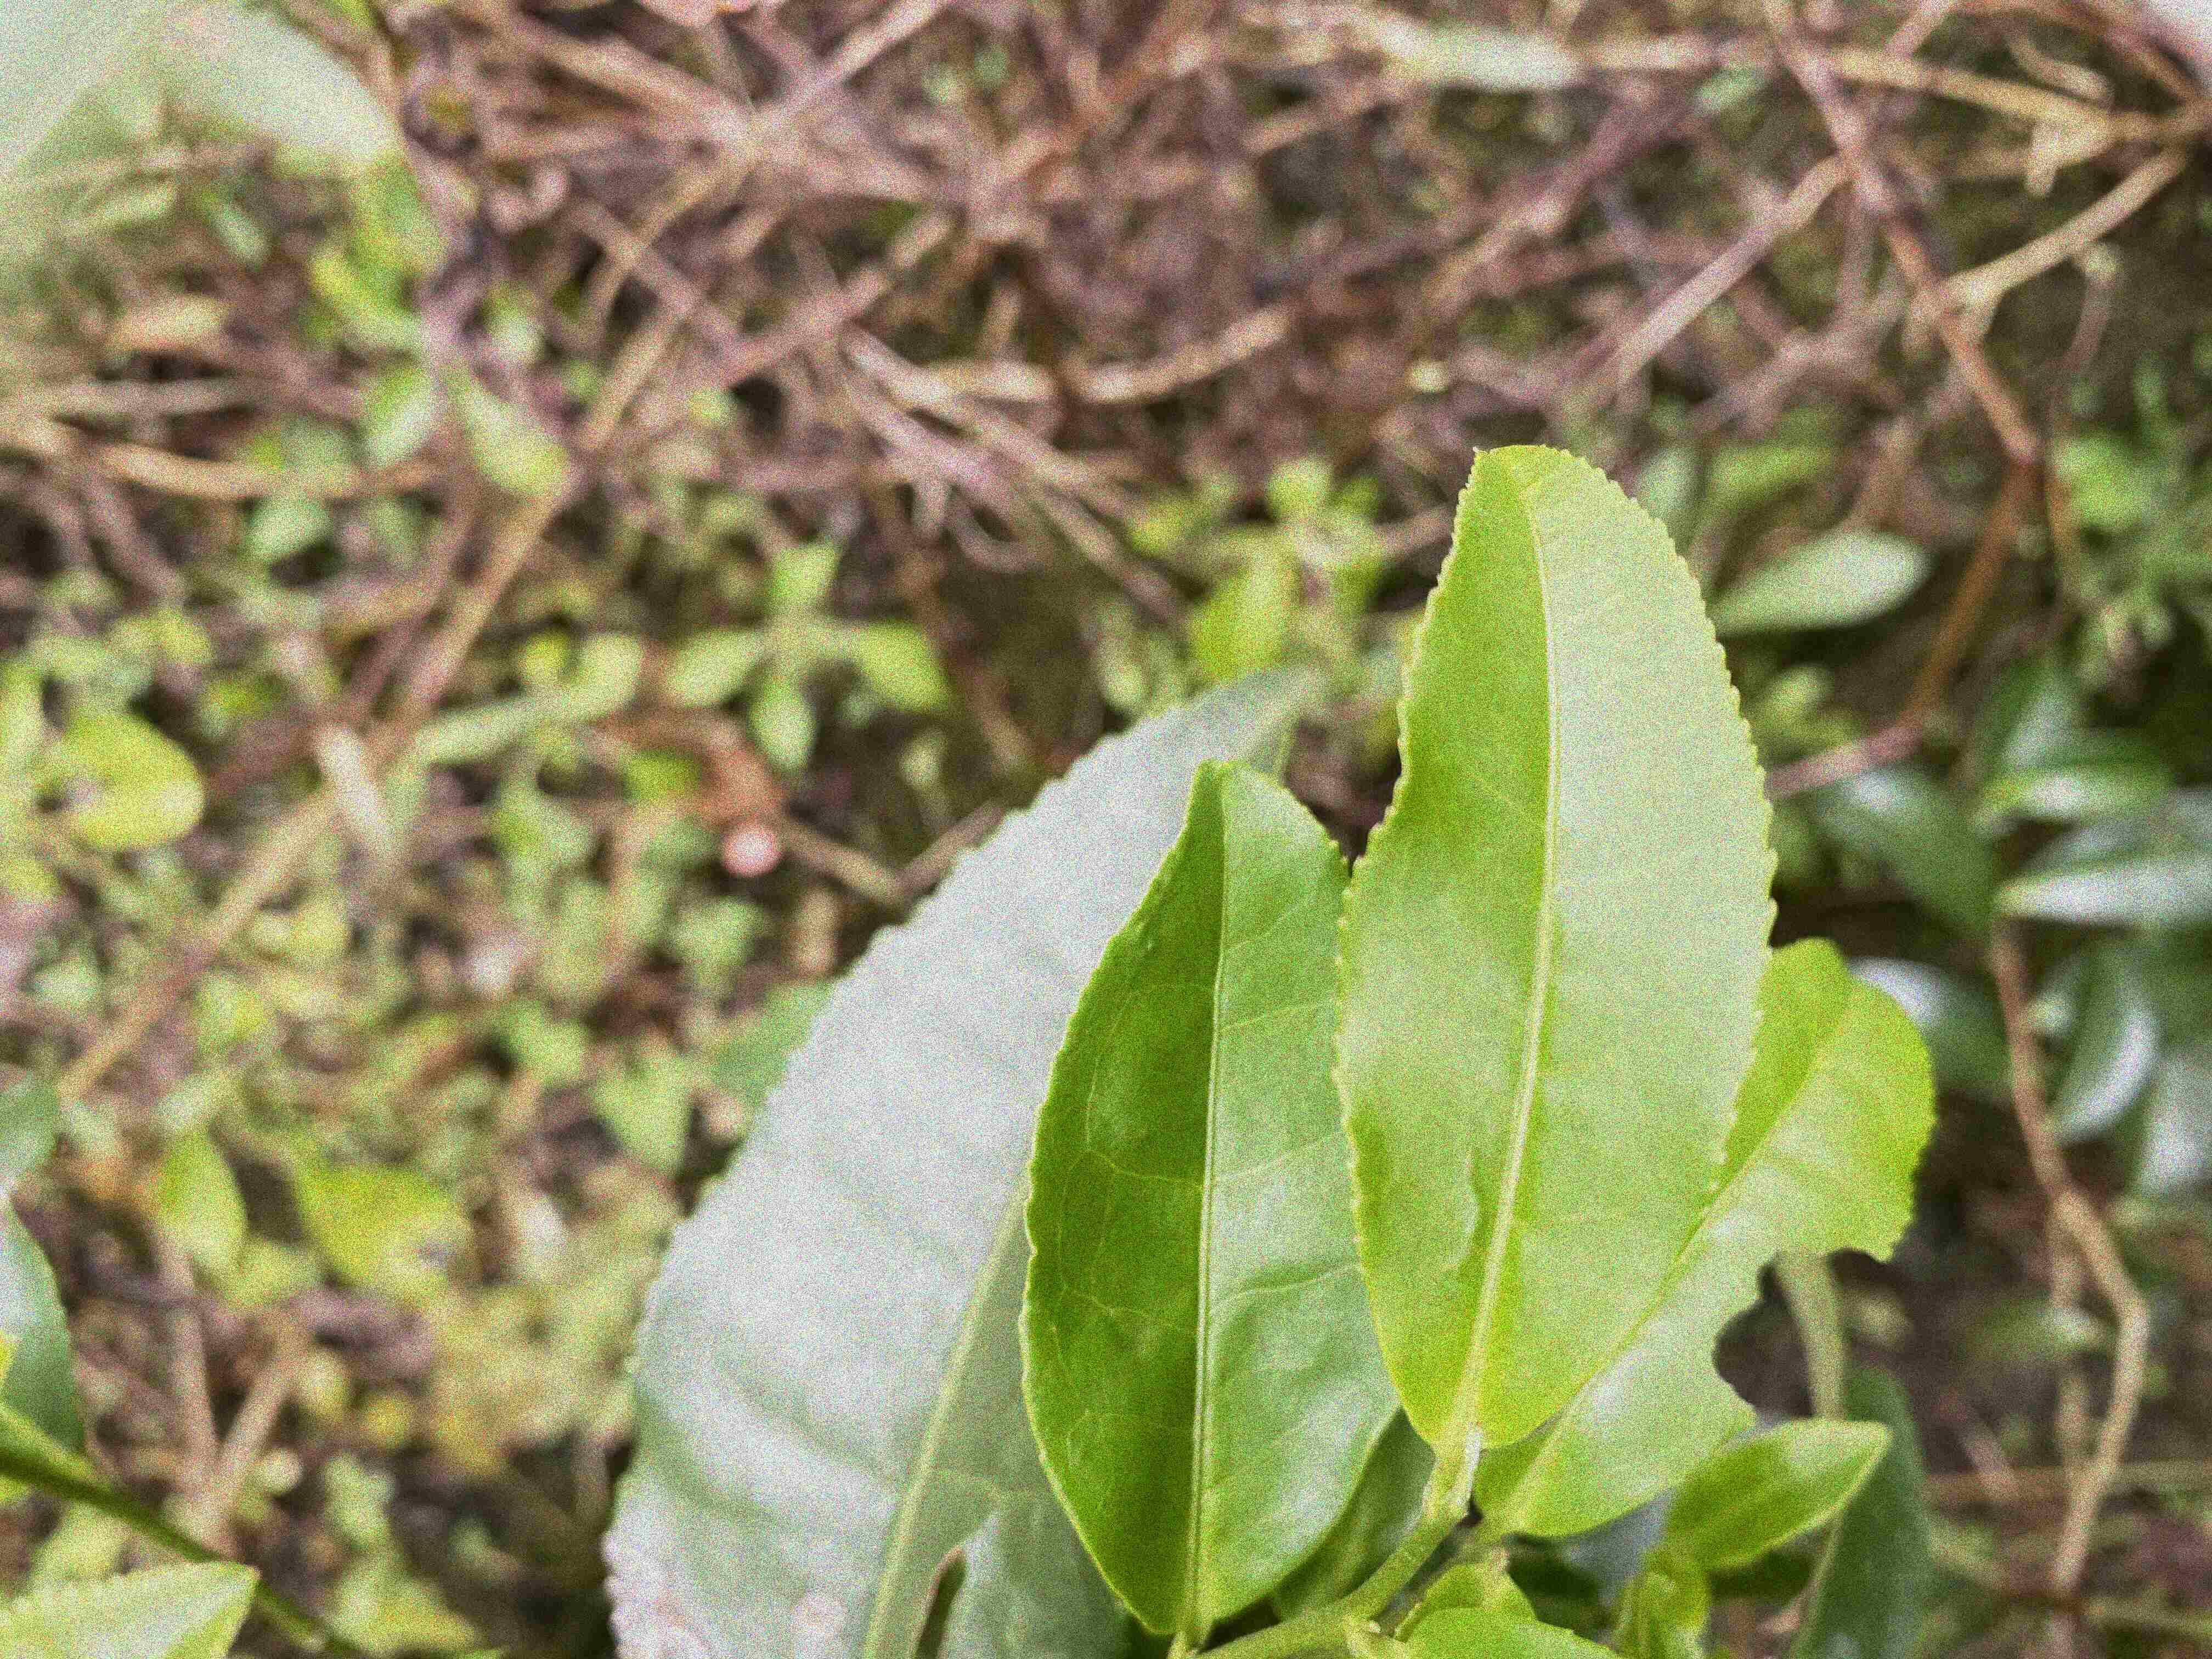chihuo_low: (1470, 938, 1939, 1537)
healthy: (1329, 444, 1780, 1455), (1017, 755, 1402, 1635)
